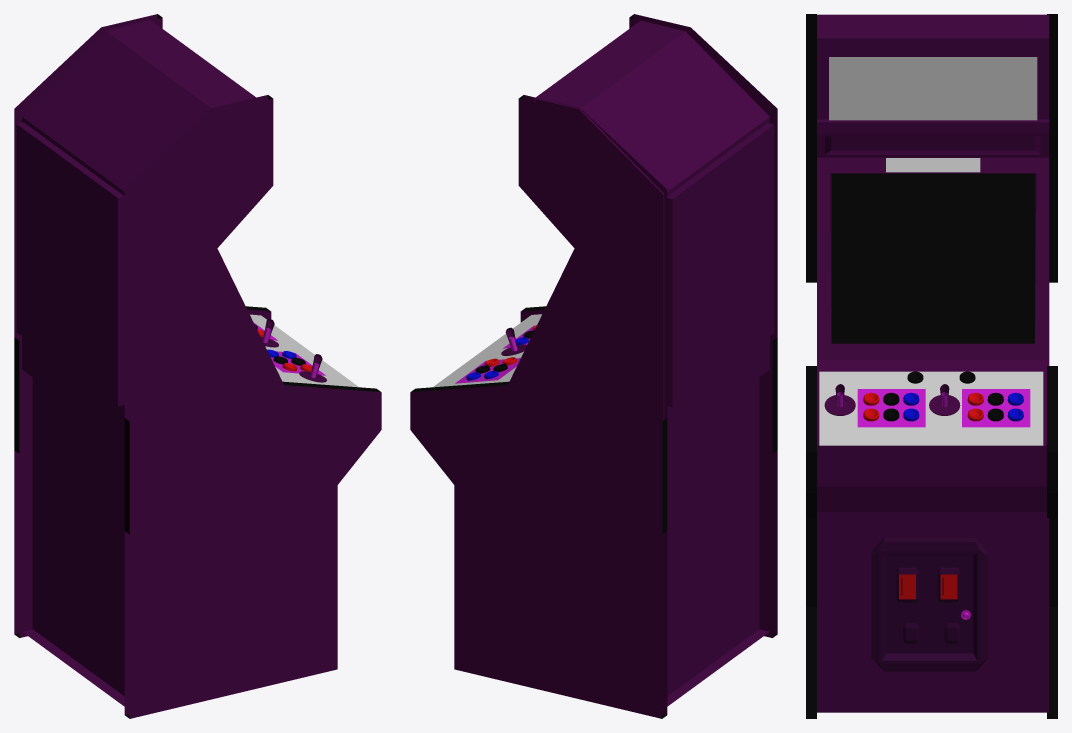
The model's file is Arcade.obj.
The picture shows the model from 3 angles, left to right: view 1: azimuth 30°, elevation 25°; view 2: azimuth 150°, elevation 25°; view 3: azimuth 270°, elevation 25°; orthographic projection. The views are drawn at different scales.
Visible parts, largest first — view 1: ArcadeCab; view 2: ArcadeCab; view 3: ArcadeCab.
Boxes of the visible parts, box(x1,y1,x2,y2) form: ArcadeCab: box(14, 14, 381, 718); ArcadeCab: box(410, 14, 777, 718); ArcadeCab: box(806, 14, 1057, 718).
Bounding box in the file's own units: 4.73 × 10.37 × 3.69.
